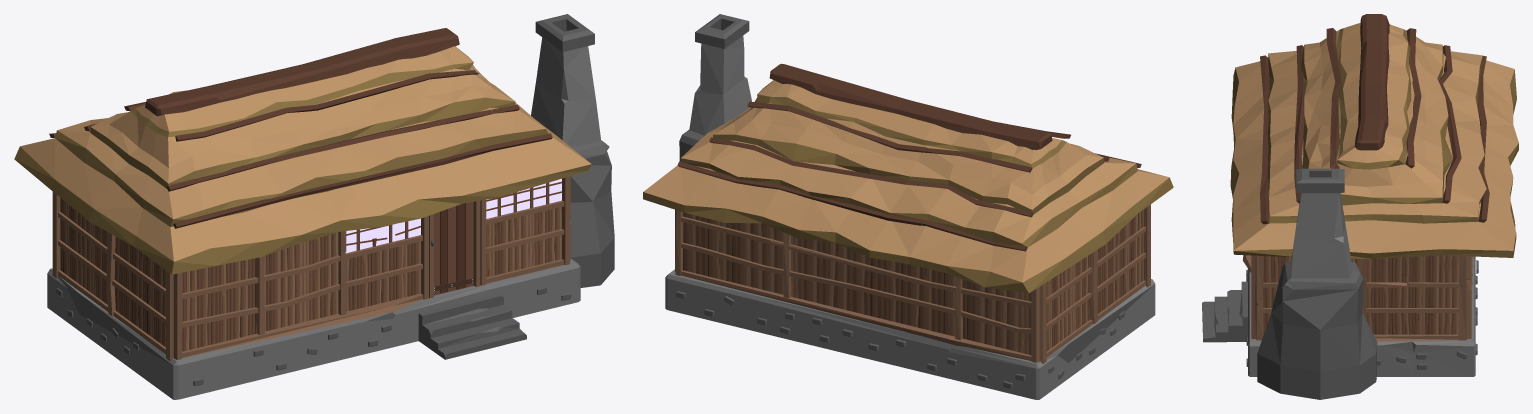
File: Building_5 Asia.fbx
3 renders of one model, left to right at view 1: azimuth 30°, elevation 25°; view 2: azimuth 150°, elevation 25°; view 3: azimuth 270°, elevation 25°, orthographic. The views are drawn at different scales.
Visible parts, largest first — view 1: Building_5; view 2: Building_5; view 3: Building_5.
Boxes of the visible parts, x1,y1,x2,y2 form: Building_5: (14, 14, 614, 399); Building_5: (643, 14, 1173, 399); Building_5: (1202, 14, 1518, 399).
Bounding box in the file's own units: 9.67 × 4.54 × 6.11.
